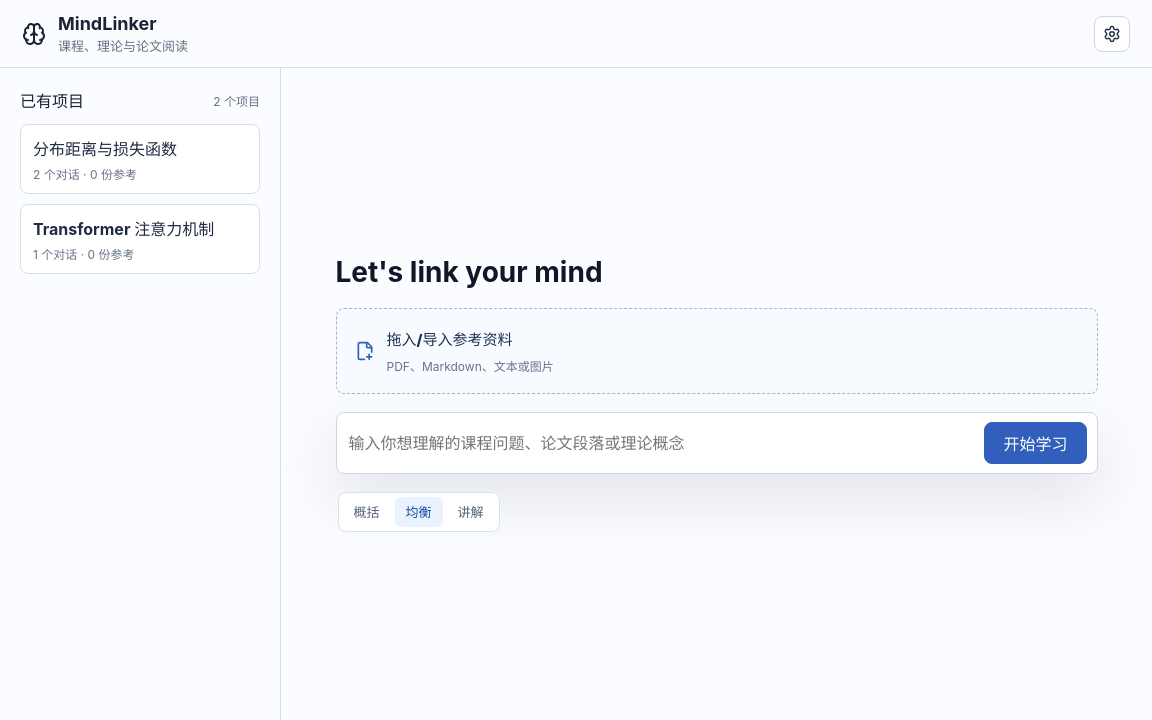
Test: MindLinker shell › opens an existing project from the home project list
Click the button with aria-label "打开项目 Transformer 注意力机制": (140, 239) [20,204,260,274]
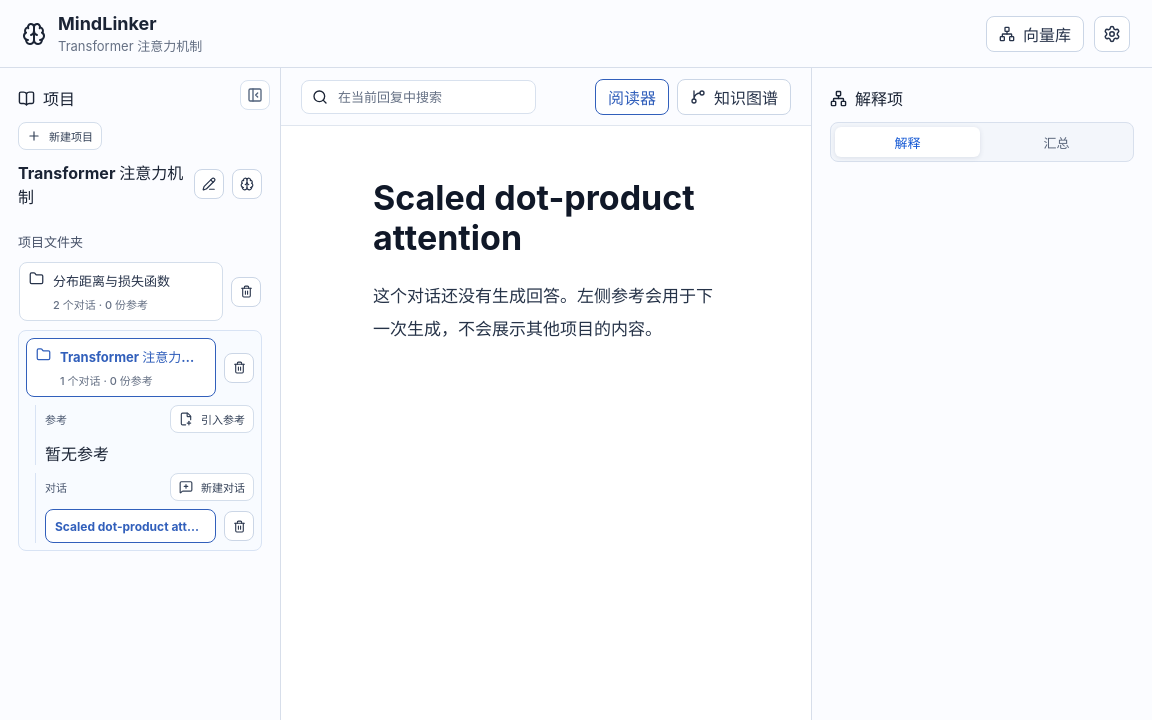
Expected: the element named "项目目录" is shown, [0,68,280,719]
